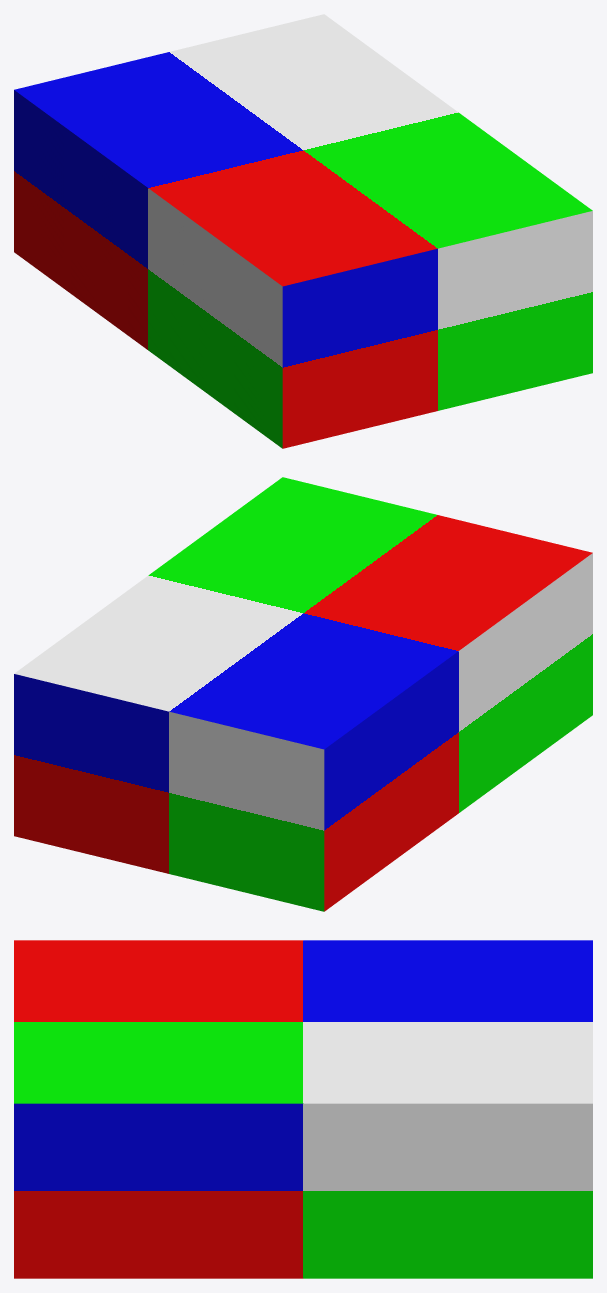
File: ensaio.glb
3 renders of one model, top to bottom at view 1: azimuth 30°, elevation 25°; view 2: azimuth 150°, elevation 25°; view 3: azimuth 270°, elevation 25°, orthographic. The views are drawn at different scales.
Bounding box in the file's own units: 2 × 1 × 3.
Materials: 1 (1 with a texture image).
